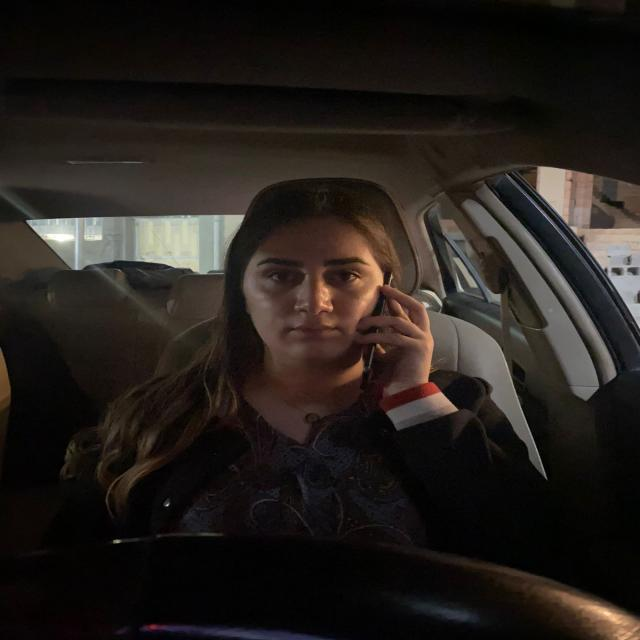mobile: (352, 282, 400, 394)
person: (232, 203, 391, 369)
